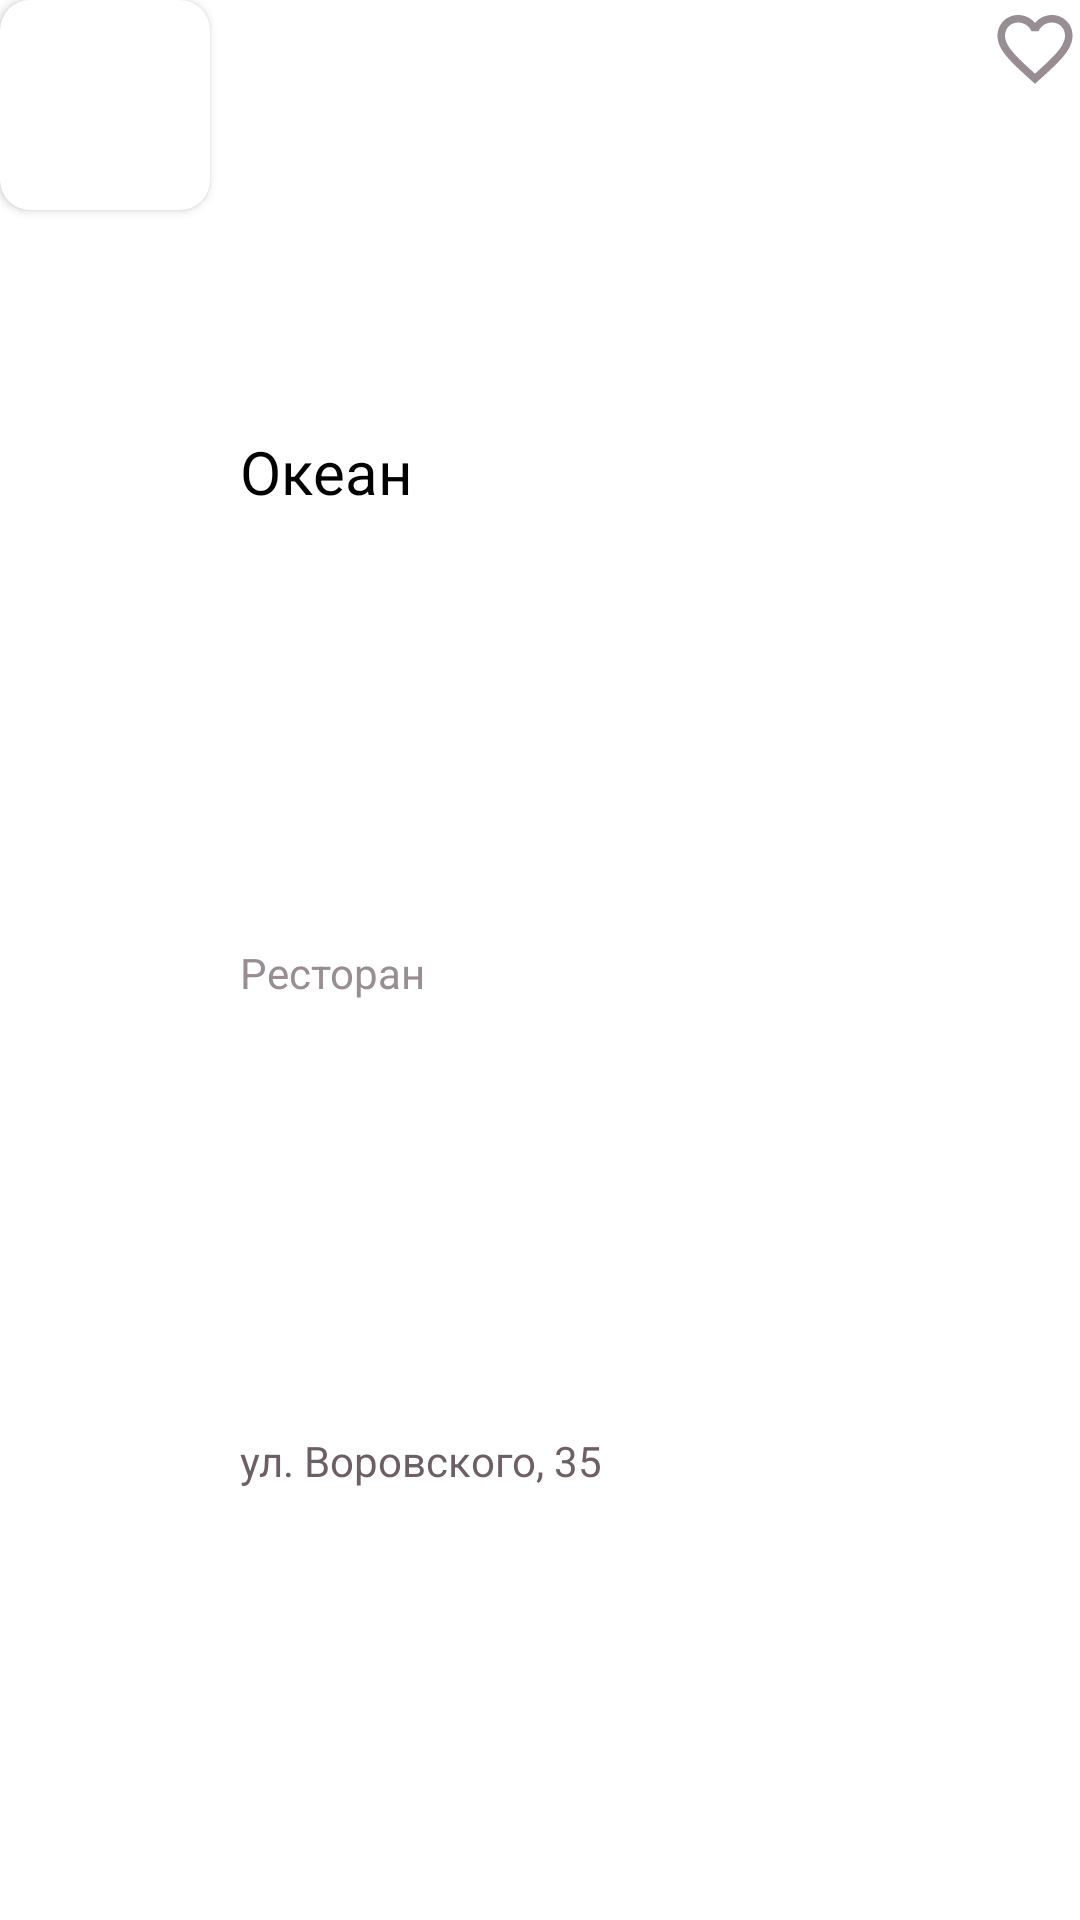

Icon click points for this 1080w x 1920h phone screenshot, format [x,y]:
favourite: [1035,49]
